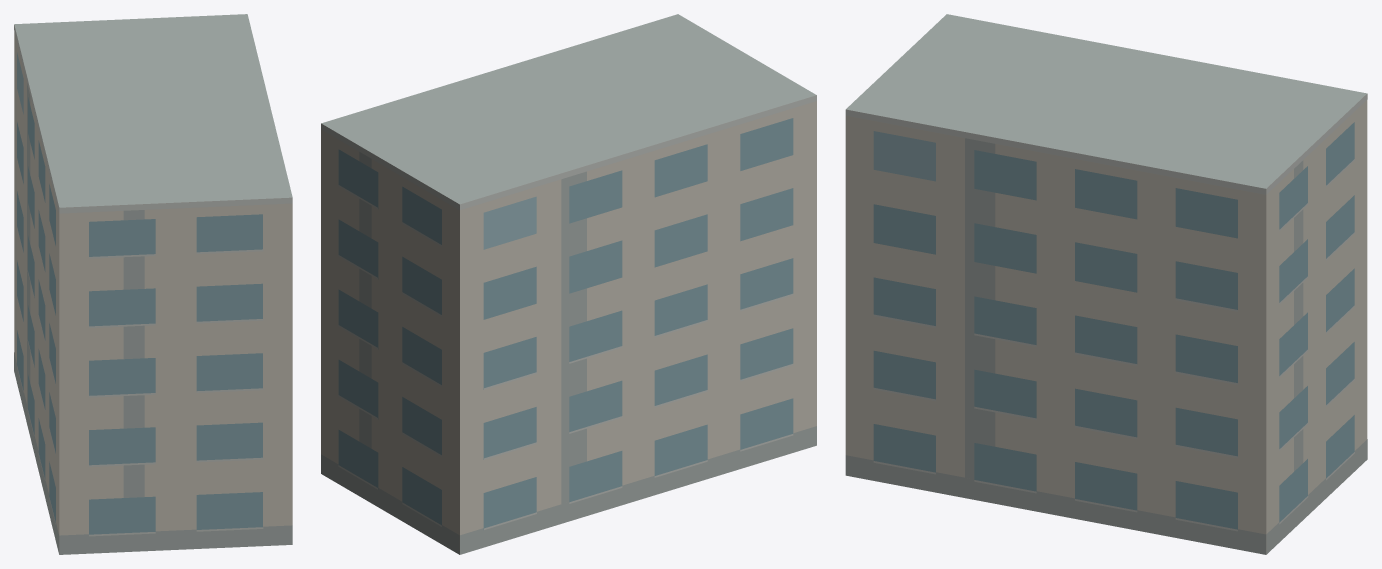
File: survey-upis-32901109.glb
3 views of the same model, side by side, from view 1: azimuth 30°, elevation 25°; view 2: azimuth 150°, elevation 25°; view 3: azimuth 270°, elevation 25° (orthographic). The views are drawn at different scales.
Parts seen in each view (by area): view 1: survey-upis-32901109.tmp; view 2: survey-upis-32901109.tmp; view 3: survey-upis-32901109.tmp.
Part boxes in pixels (x1,y1,x2,y2): survey-upis-32901109.tmp: (14, 14, 292, 554); survey-upis-32901109.tmp: (321, 14, 816, 554); survey-upis-32901109.tmp: (845, 14, 1367, 554).
Bounding box in the file's own units: 14.86 × 14.5 × 18.74.
